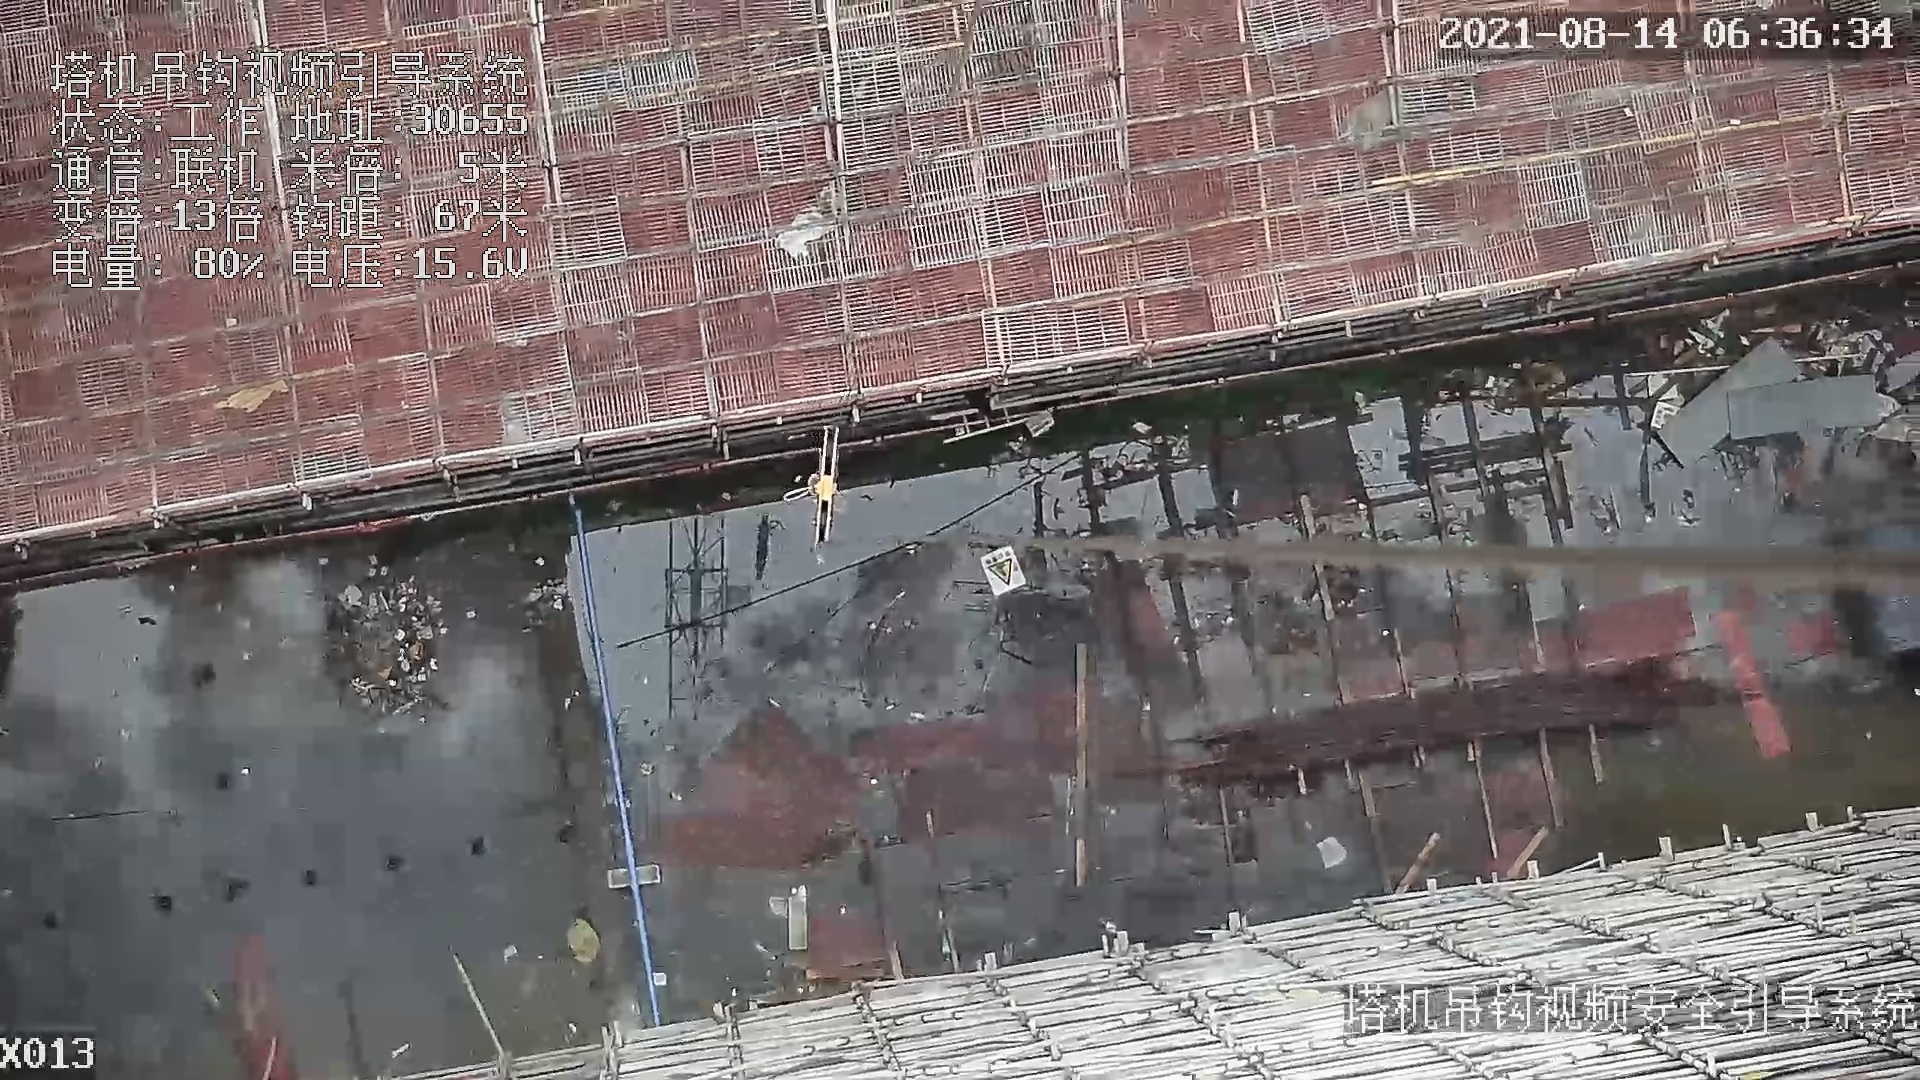hook: (779, 433, 843, 542)
